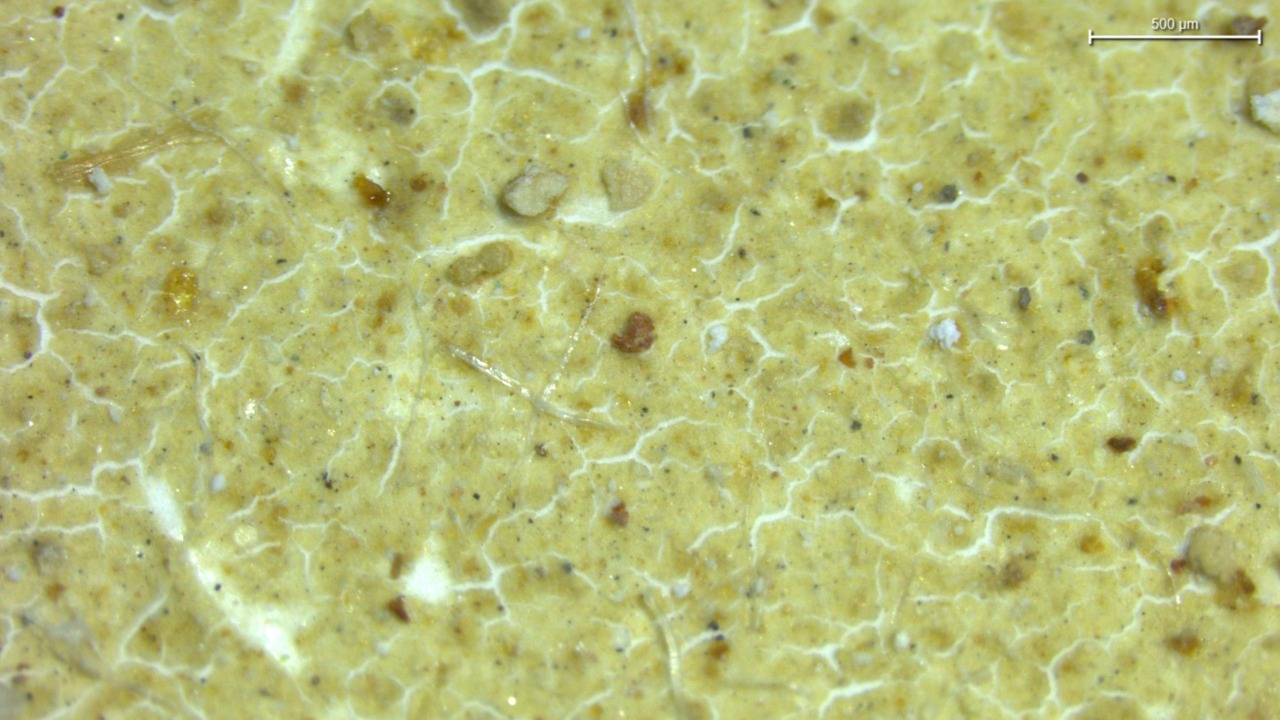microplastic_fragment: (502, 161, 571, 219), (607, 162, 653, 207), (349, 13, 393, 49), (928, 319, 961, 344)
